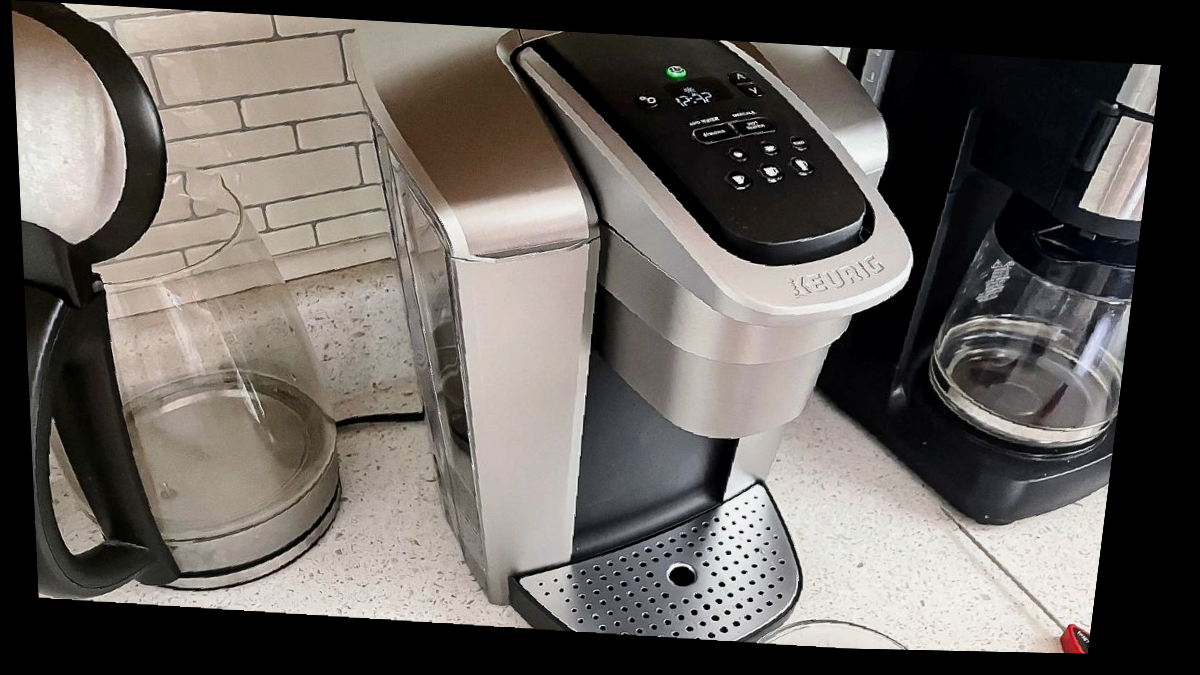10oz: (756, 161, 785, 184)
12oz: (788, 155, 818, 178)
4oz: (727, 146, 748, 163)
6oz: (759, 139, 780, 156)
8oz: (724, 168, 754, 191)
add_water: (683, 105, 728, 131)
coffee_handle: (810, 272, 910, 331)
descale: (727, 96, 769, 121)
hot: (732, 110, 778, 139)
iced: (788, 134, 809, 152)
platform: (658, 552, 706, 599)
power: (666, 64, 688, 79)
strong: (689, 121, 734, 149)
water_handle: (449, 237, 594, 268)
